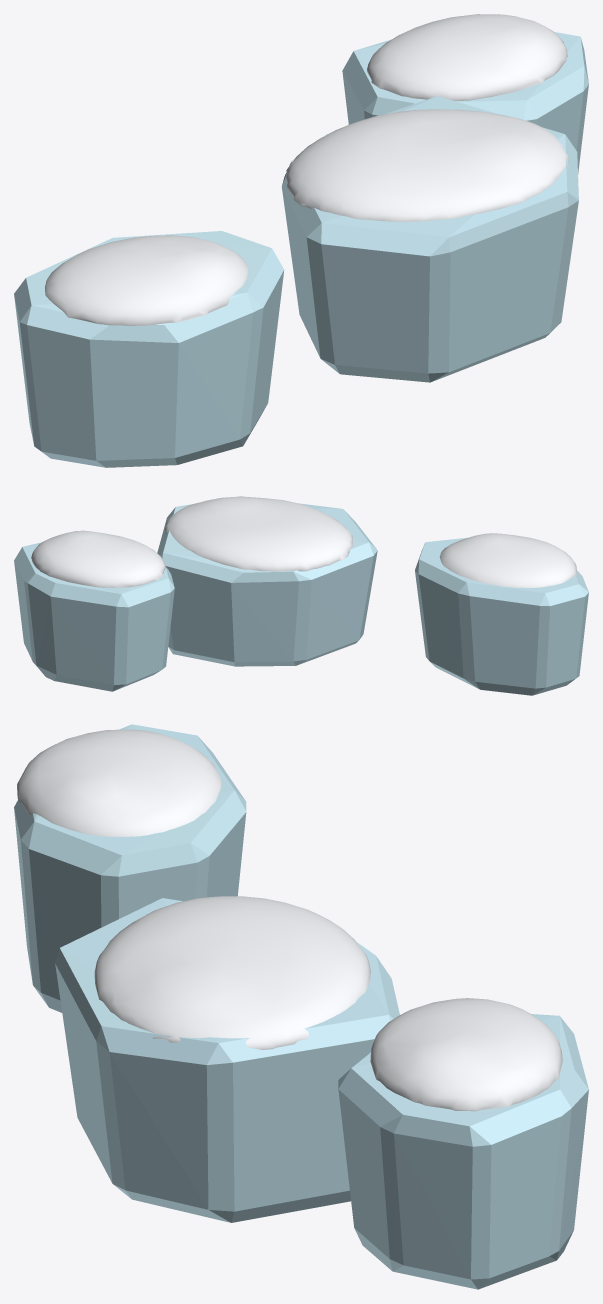
File: ice_floe_c.glb
3 renders of one model, top to bottom at view 1: azimuth 30°, elevation 25°; view 2: azimuth 150°, elevation 25°; view 3: azimuth 270°, elevation 25°, orthographic. The views are drawn at different scales.
Parts seen in each view (by area): view 1: Floe1, Floe0, FloeSnow1, FloeSnow0, FloeSnow2, Floe2; view 2: Floe1, Floe0, Floe2, FloeSnow1, FloeSnow2, FloeSnow0; view 3: Floe1, Floe2, FloeSnow1, Floe0, FloeSnow2, FloeSnow0.
Boxes of the visible parts, x1,y1,x2,y2 form: Floe1: (282,96,578,382); Floe0: (14,231,284,467); FloeSnow1: (286,109,569,221); FloeSnow0: (45,235,248,325); FloeSnow2: (367,14,567,100); Floe2: (342,32,588,174); Floe1: (157,496,377,666); Floe0: (415,537,588,695); Floe2: (14,542,174,691); FloeSnow1: (165,496,352,571); FloeSnow2: (31,530,165,587); FloeSnow0: (439,533,577,587); Floe1: (55,898,399,1222); Floe2: (338,1014,588,1289); FloeSnow1: (94,896,370,1049); Floe0: (14,724,246,1012); FloeSnow2: (370,998,562,1111); FloeSnow0: (17,729,221,836).
Size of the model in its own units: 4.12 by 1.01 by 2.49.
